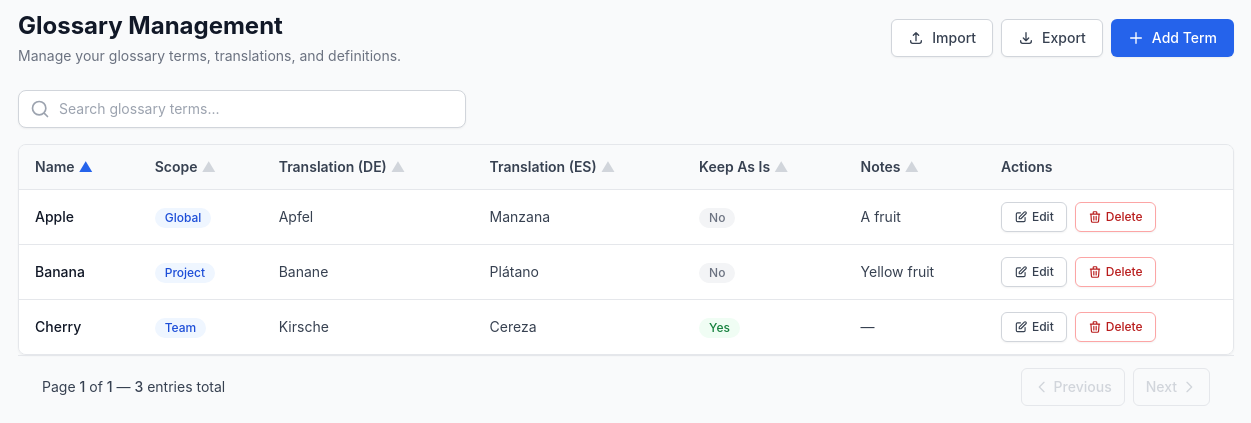
Test: App › searching terms › filters terms based on search query
Expected: the text "Apple" is shown, [19,190,139,244]
Expected: the text "Banana" is shown, [19,244,139,300]
Step 1. Type "Apple" into the field labelled "Search glossary terms" → (242, 109), box [18,90,466,128]
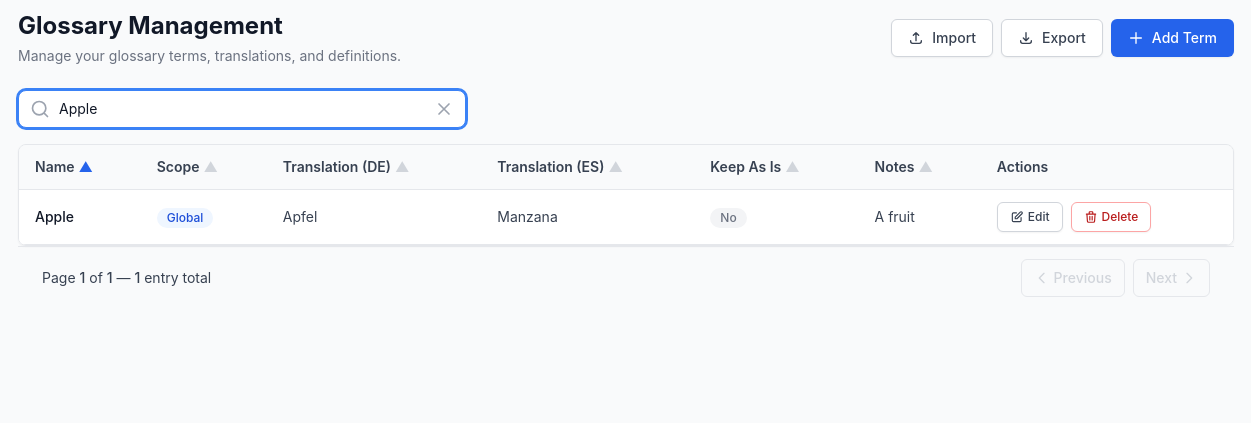
Expected: the text "Apple" is shown, [19,190,141,244]
Now the text "Banana" is gone
Now the text "Cherry" is gone
